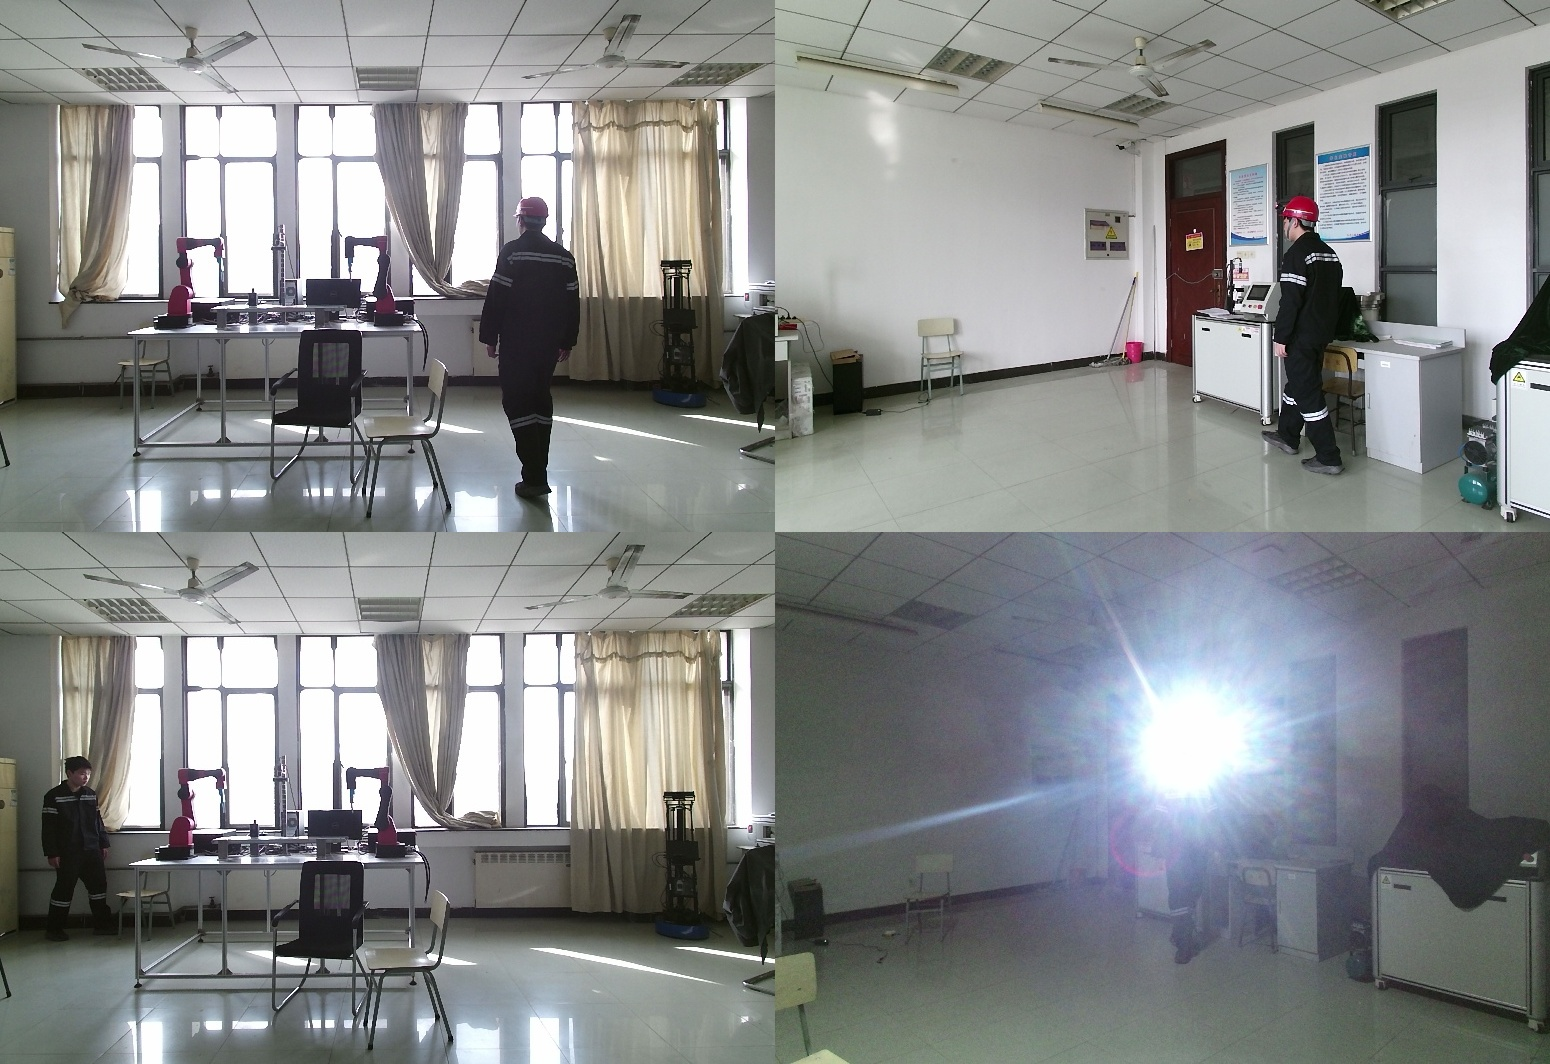person: (483, 195, 598, 500), (1270, 194, 1351, 471), (1147, 745, 1227, 969), (35, 758, 118, 942)
